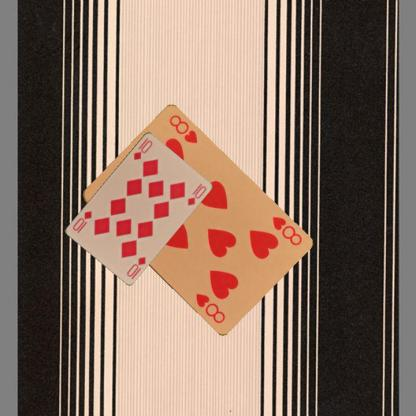10d: (130, 135, 154, 161), (124, 254, 147, 278)
8h: (268, 214, 302, 247)
